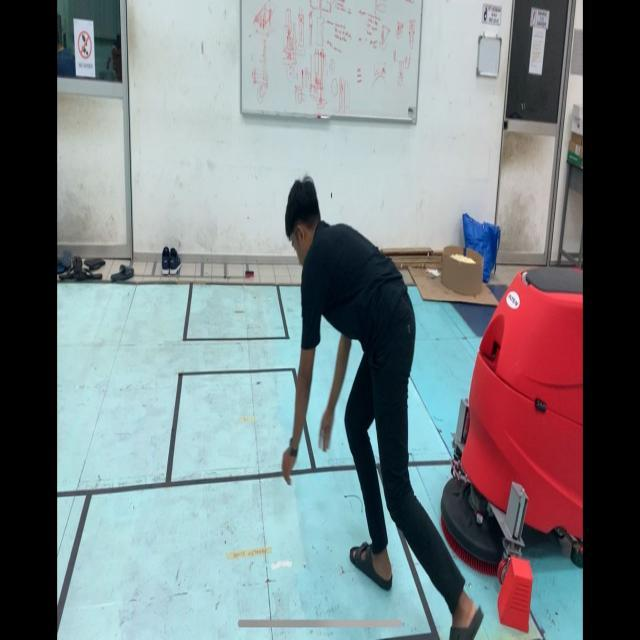fall: (270, 175, 482, 640)
